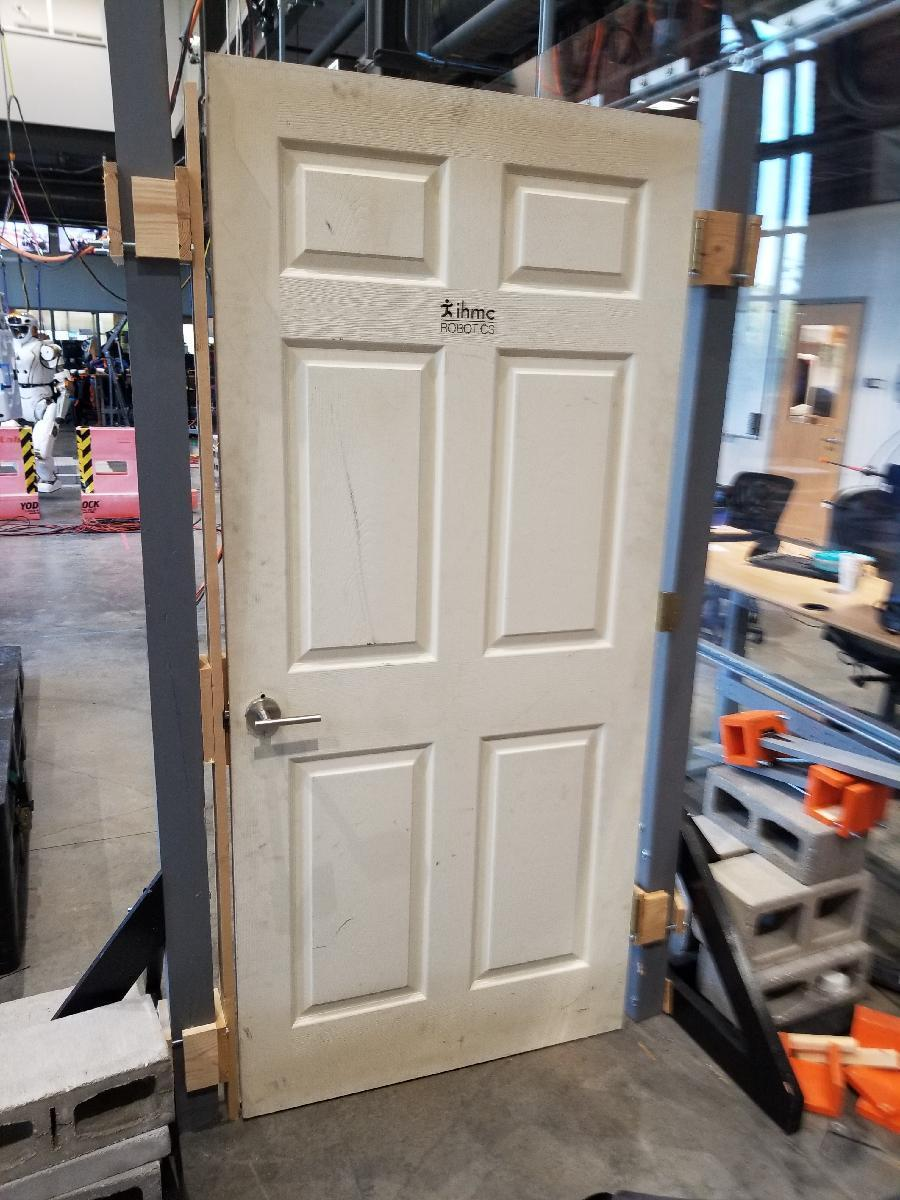door: (198, 38, 642, 1073)
handle: (238, 693, 330, 743)
